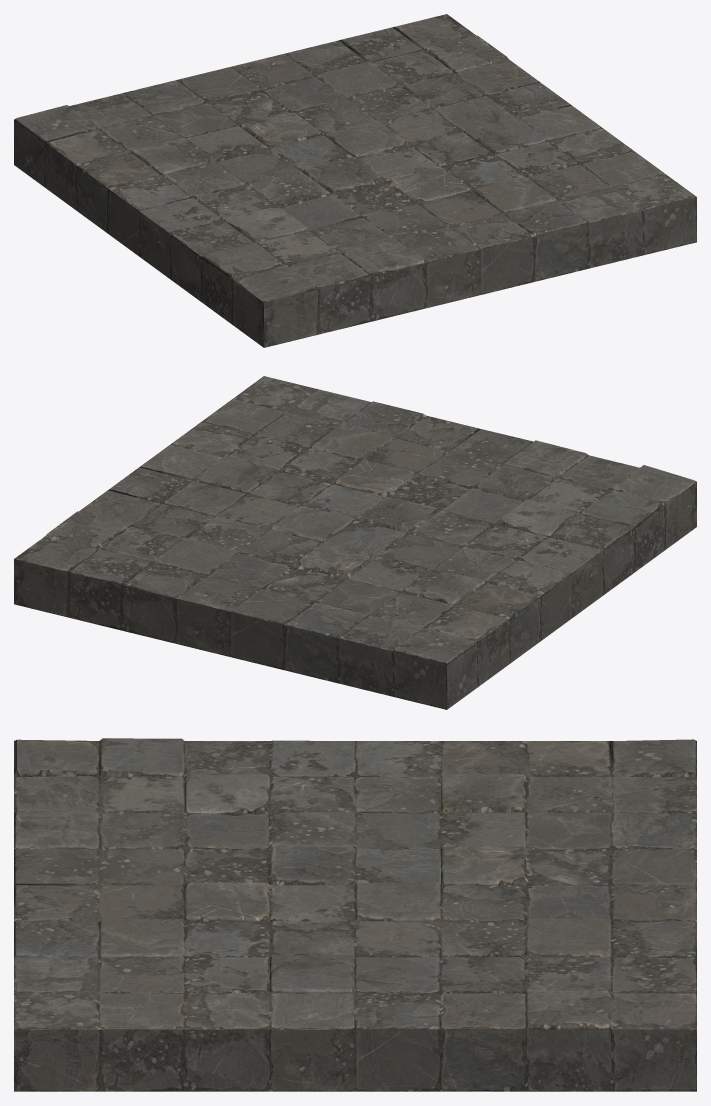
File: SM_StoneFloorInterior.fbx
3 renders of one model, top to bottom at view 1: azimuth 30°, elevation 25°; view 2: azimuth 150°, elevation 25°; view 3: azimuth 270°, elevation 25°, orthographic. The views are drawn at different scales.
Visible parts, largest first — view 1: SM_StoneFloorInterior_LOD0; view 2: SM_StoneFloorInterior_LOD0; view 3: SM_StoneFloorInterior_LOD0.
Part boxes in pixels (<box>): SM_StoneFloorInterior_LOD0: <box>14,14,696,347</box>; SM_StoneFloorInterior_LOD0: <box>14,376,696,709</box>; SM_StoneFloorInterior_LOD0: <box>14,738,696,1091</box>.
Size of the model in its own units: 200 by 200 by 22.17.
1 material, 1 textured.
